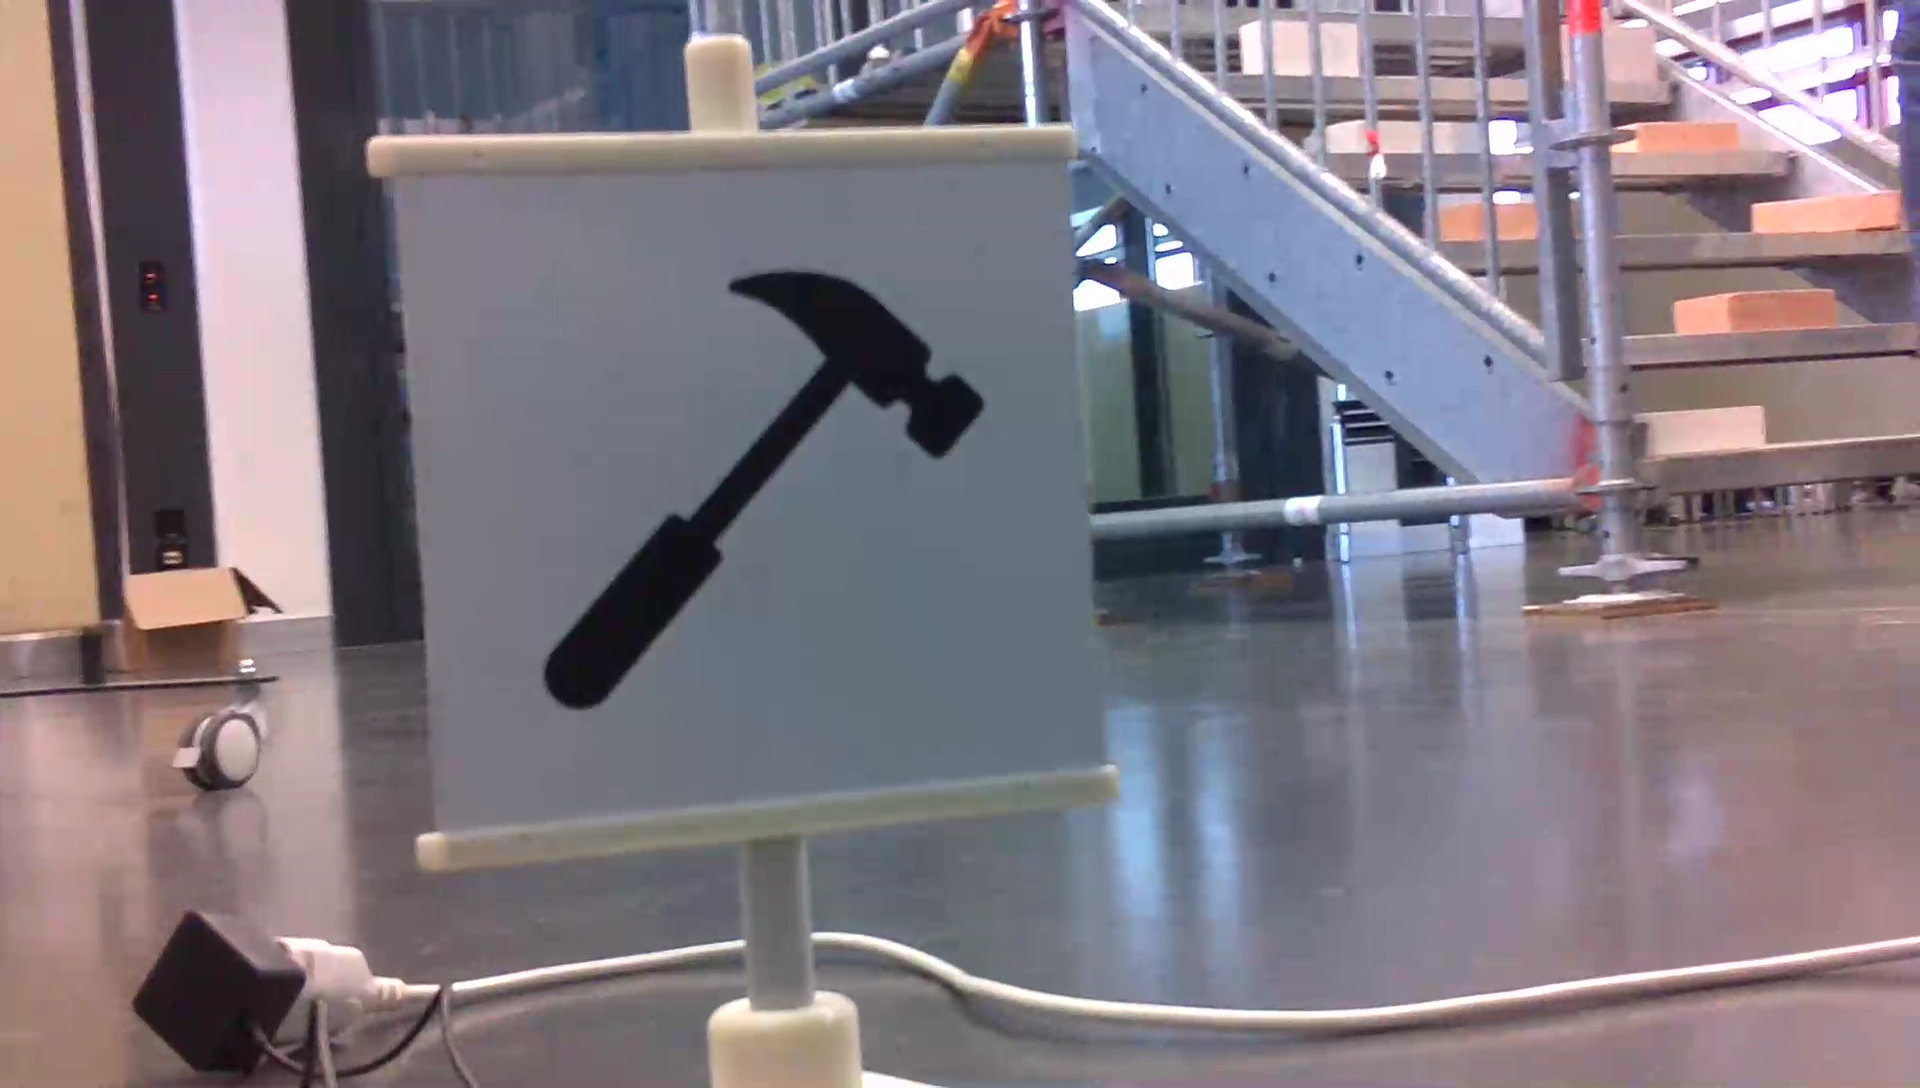brick: (1673, 290, 1834, 332), (1652, 408, 1764, 458), (1753, 193, 1898, 231), (1621, 123, 1735, 150), (1600, 22, 1654, 80)
hammer: (531, 262, 1000, 717)
